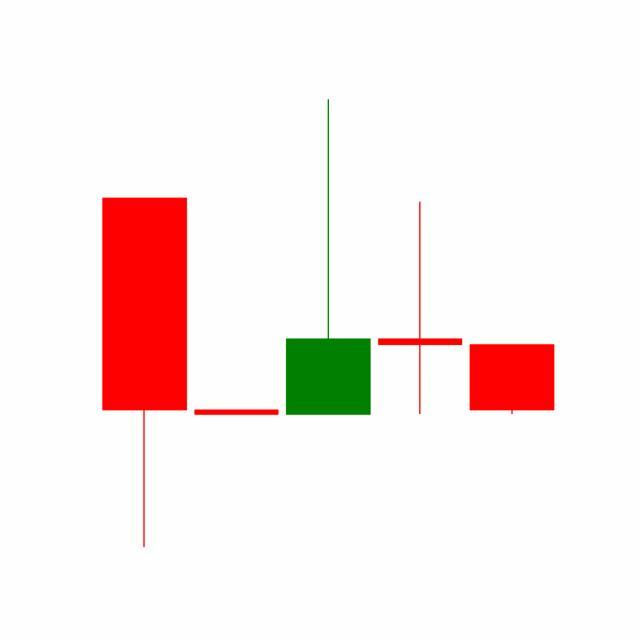Spinning Top: (374, 199, 468, 417)
